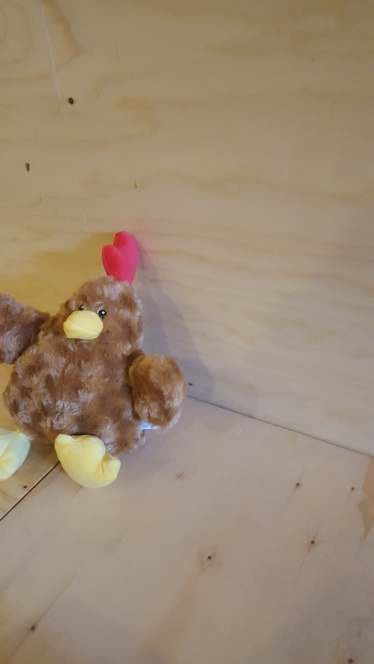chicken_front: (1, 230, 185, 489)
